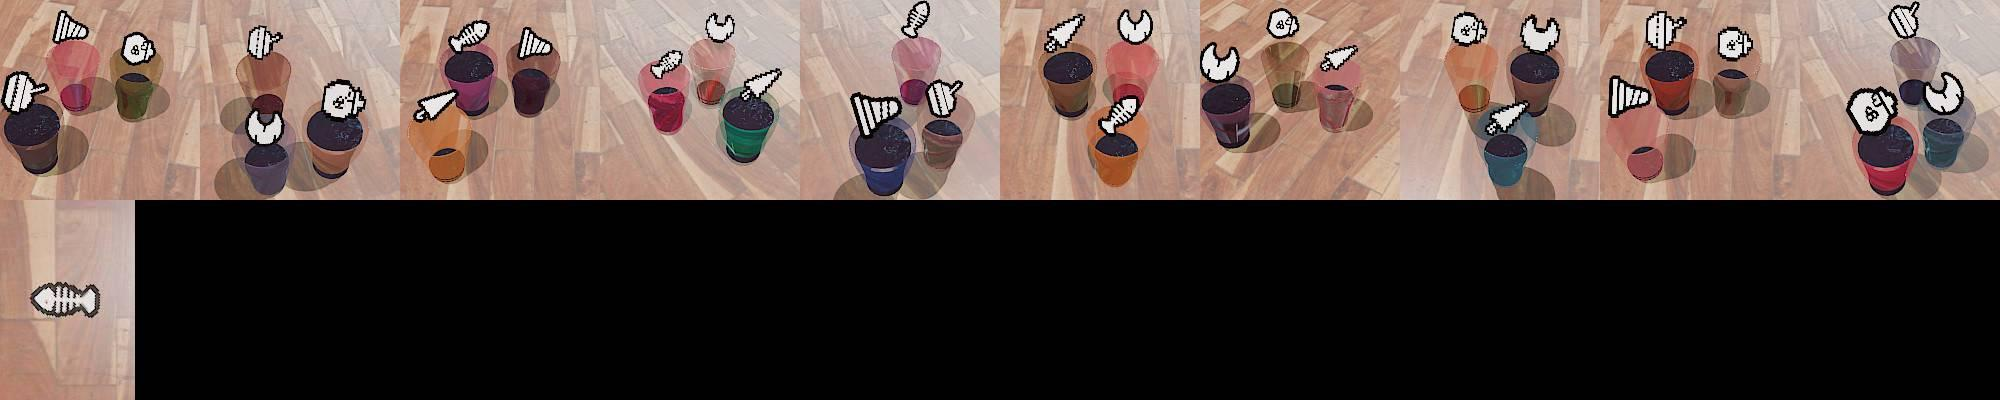icon: (29, 280, 102, 318), (1846, 87, 1901, 136), (851, 90, 901, 139), (0, 71, 50, 115), (1097, 92, 1143, 135), (320, 78, 365, 121), (1608, 74, 1653, 117), (1923, 70, 1964, 116), (1645, 10, 1687, 52), (1045, 13, 1087, 55), (1519, 14, 1562, 55), (1483, 98, 1531, 135), (245, 104, 286, 146), (412, 88, 460, 122), (1200, 41, 1240, 82), (739, 66, 783, 102), (925, 78, 963, 118), (448, 19, 490, 55), (1716, 25, 1755, 61), (51, 9, 91, 45), (1116, 8, 1153, 45), (1450, 11, 1487, 47), (247, 24, 283, 60), (517, 25, 554, 60), (120, 31, 156, 65), (1889, 3, 1922, 39), (901, 1, 931, 39), (1319, 45, 1358, 74), (1267, 8, 1301, 41), (651, 48, 684, 79), (704, 11, 735, 42)
